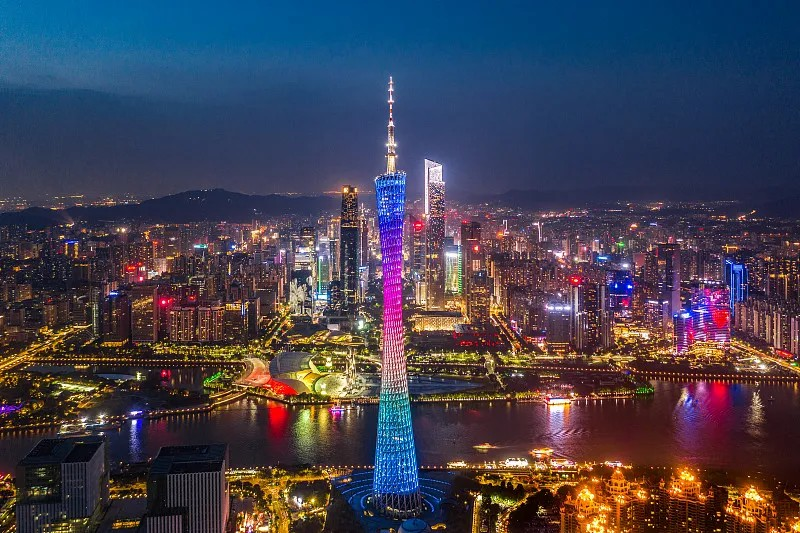Canton: (368, 74, 426, 519)
